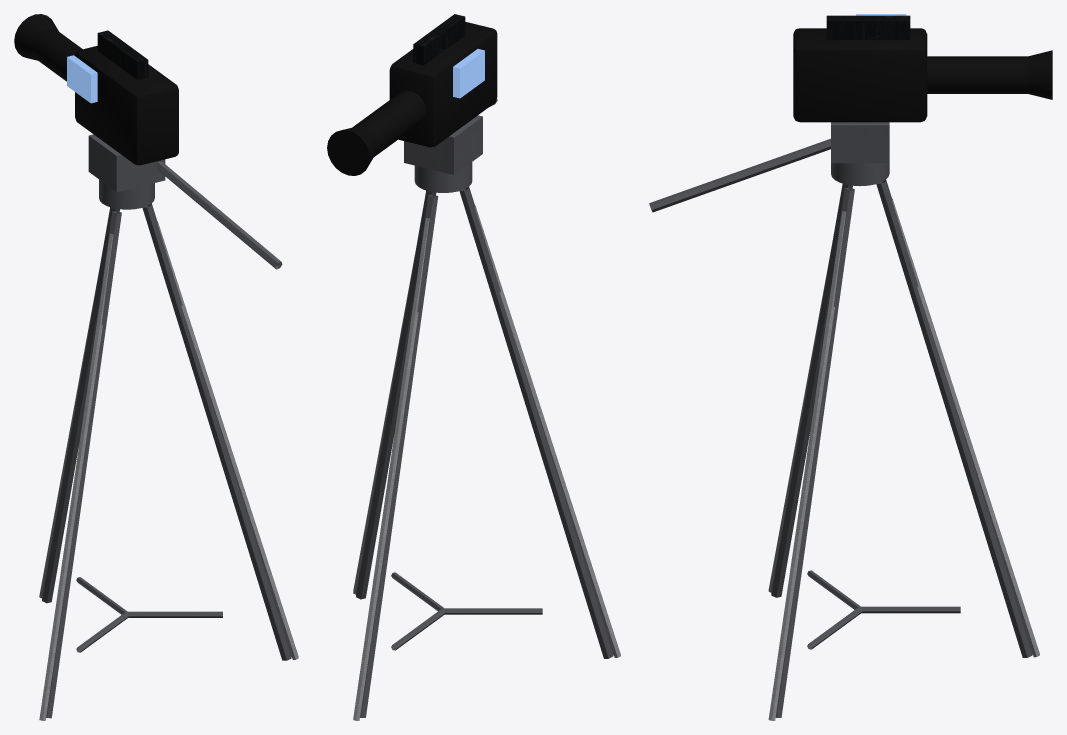
File: camera_shoulder.gltf
3 renders of one model, left to right at view 1: azimuth 30°, elevation 25°; view 2: azimuth 150°, elevation 25°; view 3: azimuth 270°, elevation 25°, orthographic. The views are drawn at different scales.
Visible parts, largest first — view 1: camera_shoulder; view 2: camera_shoulder; view 3: camera_shoulder.
Boxes of the visible parts, x1=… form: camera_shoulder: x1=14, y1=14, x2=298, y2=720; camera_shoulder: x1=327, y1=14, x2=620, y2=720; camera_shoulder: x1=649, y1=14, x2=1052, y2=720.
Bounding box in the file's own units: 0.7484 × 1.68 × 0.9641.
5 materials, 4 textured.
